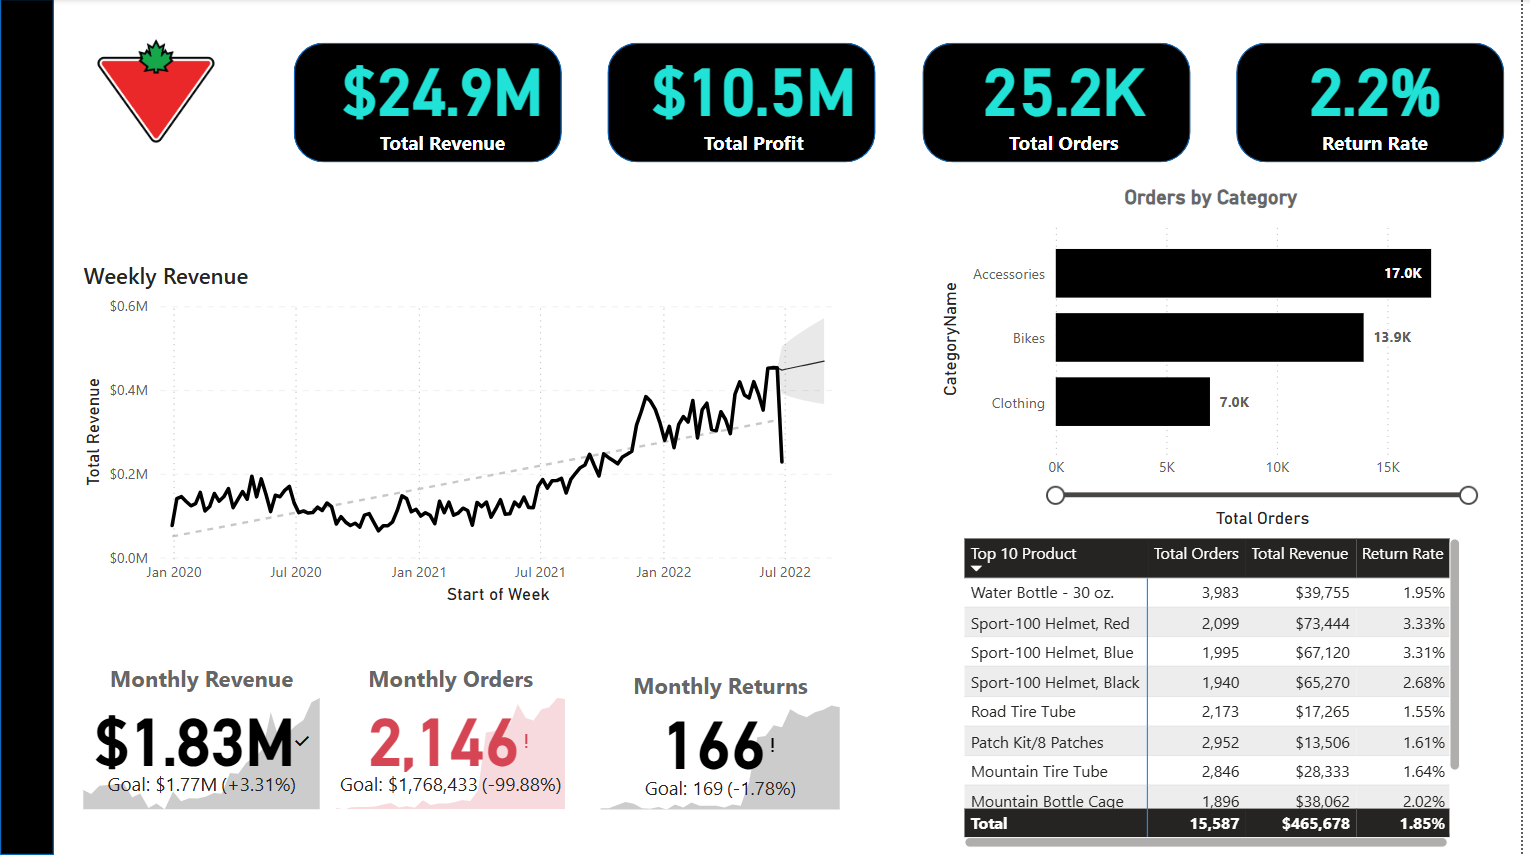

This screenshot's page, from the dashboard's own definition file:
{"tool":"powerbi","page":{"name":"Exec Dashboard","canvas":[1280,720],"ordinal":0},"visuals":[{"type":"image","box":[55.3,0,191.3,191.3],"z":0},{"type":"shape","box":[246.6,36.8,225.3,100.6],"z":1000},{"type":"shape","box":[511.2,36.8,225.3,100.6],"z":2000},{"type":"shape","box":[775.7,36.8,225.3,100.6],"z":3000},{"type":"shape","box":[1040.3,36.8,225.3,100.6],"z":4000},{"type":"shape","title":"Nav Bar","box":[0,0,45.4,720],"z":5000},{"type":"card","fields":{"Values":["Measure Table.Total Revenue"]},"box":[263.6,21.3,216.8,123.3],"z":6000,"group":"g1"},{"type":"group","id":"g1","title":"KPI Values","box":[263.6,21.3,1001,123.3],"z":6000},{"type":"card","fields":{"Values":["Measure Table.Total Profit"]},"box":[525,21.3,216.8,123.3],"z":7000,"group":"g1"},{"type":"lineChart","title":"Weekly Revenue","fields":{"Category":["Calendar Lookup.Date Hierarchy.Start of Week"],"Y":["Measure Table.Total Revenue"]},"box":[65.7,219.4,655.2,294],"z":7000},{"type":"card","fields":{"Values":["Measure Table.Total Orders"]},"box":[786.4,21.3,216.8,123.3],"z":8000,"group":"g1"},{"type":"kpi","title":"Monthly Revenue","fields":{"Indicator":["Measure Table.Total Revenue"],"TrendLine":["Calendar Lookup.Date Hierarchy.Start of Month"],"Goal":["Measure Table.Previous Month Revenue"]},"box":[65.7,558.2,209,128.4],"z":8000},{"type":"card","fields":{"Values":["Measure Table.Return Rate"]},"box":[1047.8,21.3,216.8,123.3],"z":9000,"group":"g1"},{"type":"kpi","title":"Monthly Orders","fields":{"TrendLine":["Calendar Lookup.Date Hierarchy.Start of Month"],"Goal":["Measure Table.Previous Month Revenue"],"Indicator":["Measure Table.Total Orders"]},"box":[277.6,558.2,203,128.4],"z":9000},{"type":"kpi","title":"Monthly Returns","fields":{"TrendLine":["Calendar Lookup.Date Hierarchy.Start of Month"],"Indicator":["Measure Table.Total Returns"],"Goal":["Measure Table.Previous Month Returns"]},"box":[500,564.4,211.1,122.2],"z":10000},{"type":"clusteredBarChart","title":"Orders by Category","fields":{"Category":["Product Categories Lookup.CategoryName"],"Y":["Measure Table.Total Orders"]},"box":[786.6,156.7,464.2,292.5],"z":11000},{"type":"pivotTable","fields":{"Rows":["Product Categories Lookup.CategoryName","Product Lookup.ProductName"],"Values":["Measure Table.Total Orders","Measure Table.Total Revenue","Measure Table.Return Rate"]},"box":[806,449.3,426.9,270.1],"z":12000}]}

Visuals, with their boxes in screenshot pixels (x1, y1, x2, y2), scaled from the page's 1280x720 canvas onto the 1530x855 screenshot:
image: [x1=66, y1=0, x2=295, y2=227]
shape: [x1=295, y1=44, x2=564, y2=163]
shape: [x1=611, y1=44, x2=880, y2=163]
shape: [x1=927, y1=44, x2=1197, y2=163]
shape: [x1=1243, y1=44, x2=1513, y2=163]
"Nav Bar" shape: [x1=0, y1=0, x2=54, y2=854]
card - Measure Table.Total Revenue: [x1=315, y1=25, x2=574, y2=172]
"KPI Values" group: [x1=315, y1=25, x2=1512, y2=172]
card - Measure Table.Total Profit: [x1=628, y1=25, x2=887, y2=172]
"Weekly Revenue" lineChart: [x1=79, y1=261, x2=862, y2=610]
card - Measure Table.Total Orders: [x1=940, y1=25, x2=1199, y2=172]
"Monthly Revenue" kpi: [x1=79, y1=663, x2=328, y2=815]
card - Measure Table.Return Rate: [x1=1252, y1=25, x2=1512, y2=172]
"Monthly Orders" kpi: [x1=332, y1=663, x2=574, y2=815]
"Monthly Returns" kpi: [x1=598, y1=670, x2=850, y2=815]
"Orders by Category" clusteredBarChart: [x1=940, y1=186, x2=1495, y2=533]
pivotTable - Product Categories Lookup.CategoryName x Product Lookup.ProductName: [x1=963, y1=534, x2=1474, y2=854]
